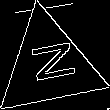N_W: (21, 42, 77, 90)
